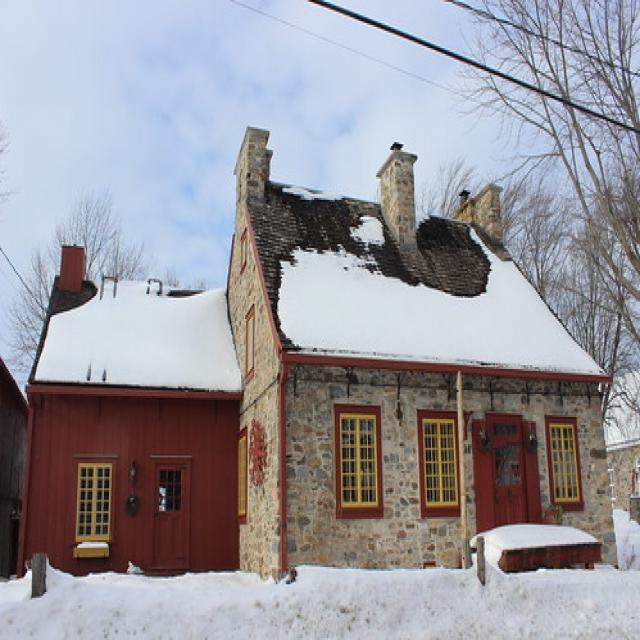Normal_building: (232, 117, 626, 586), (16, 241, 242, 580)
